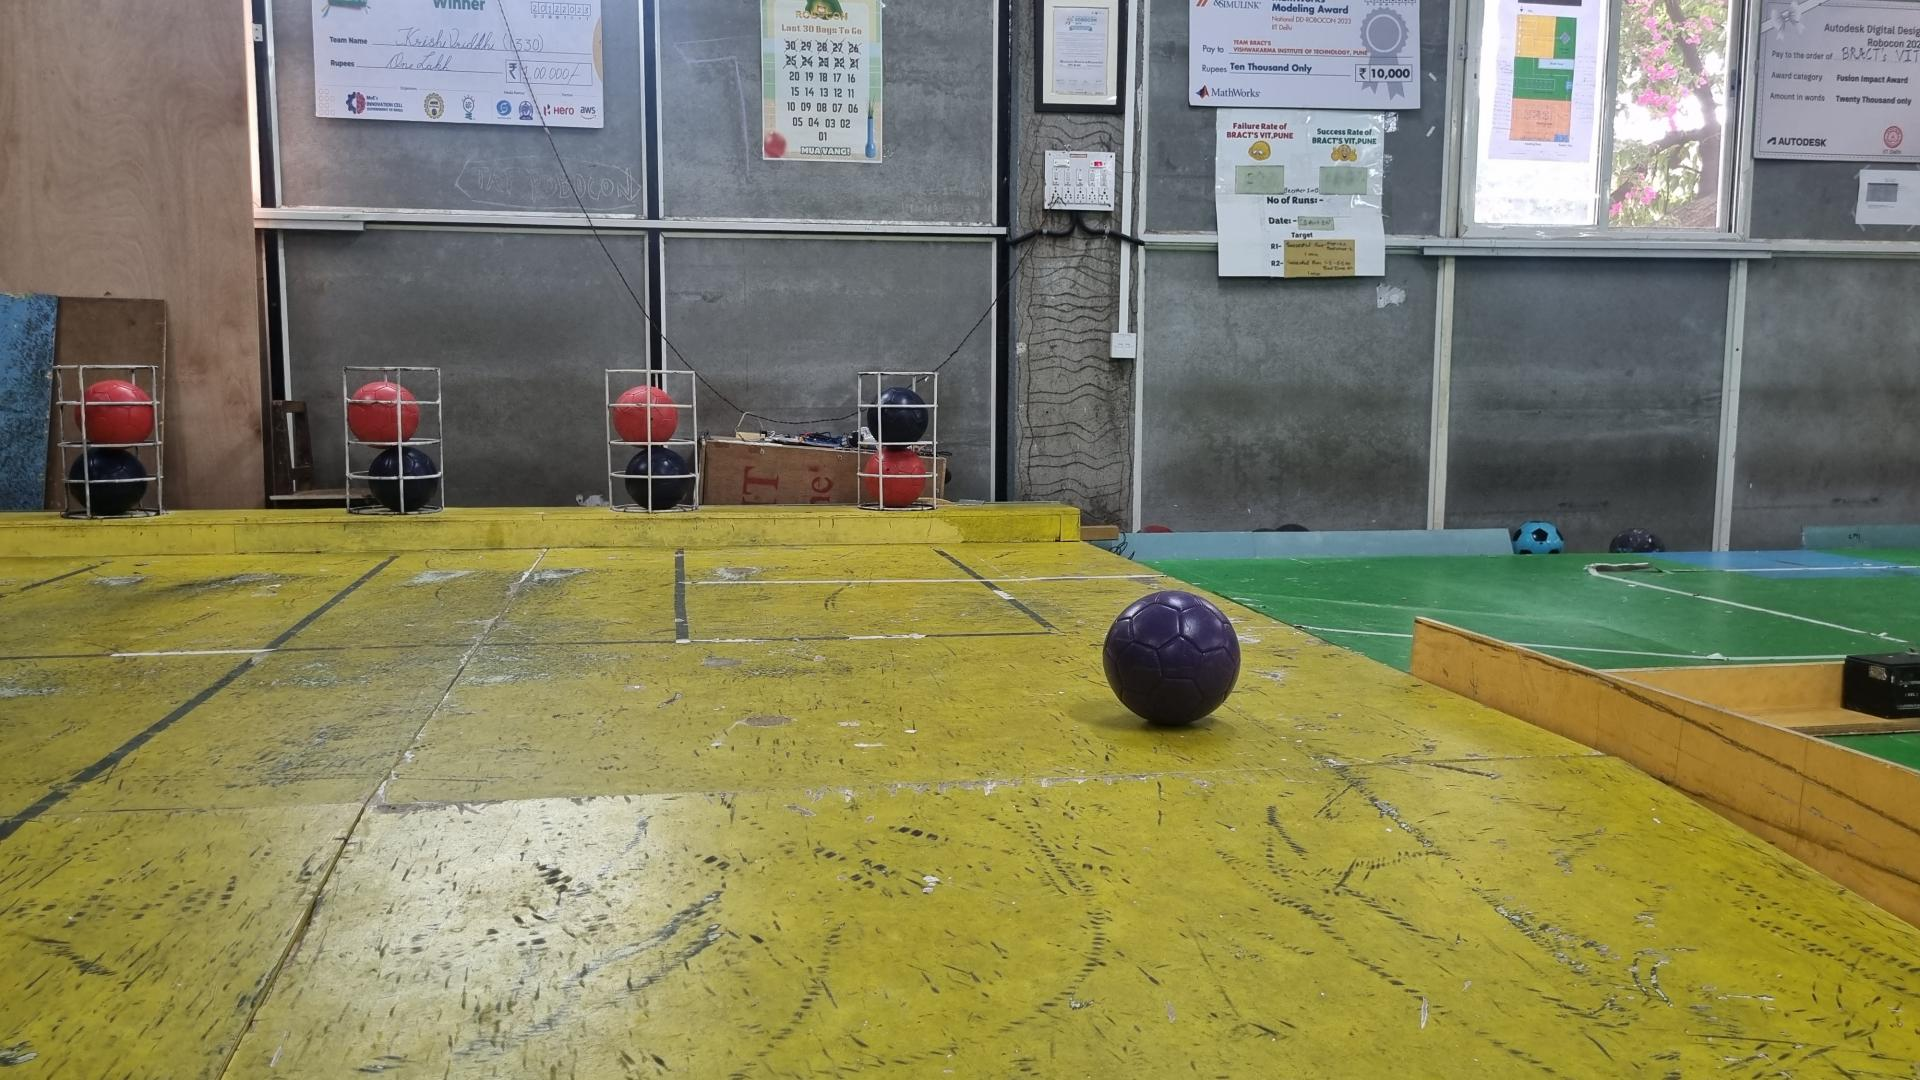dhoka: (66, 450, 149, 517), (624, 444, 695, 513), (369, 446, 440, 513), (868, 385, 928, 444)
laale: (84, 378, 156, 446), (345, 382, 421, 446), (865, 450, 930, 509), (613, 385, 680, 442)
